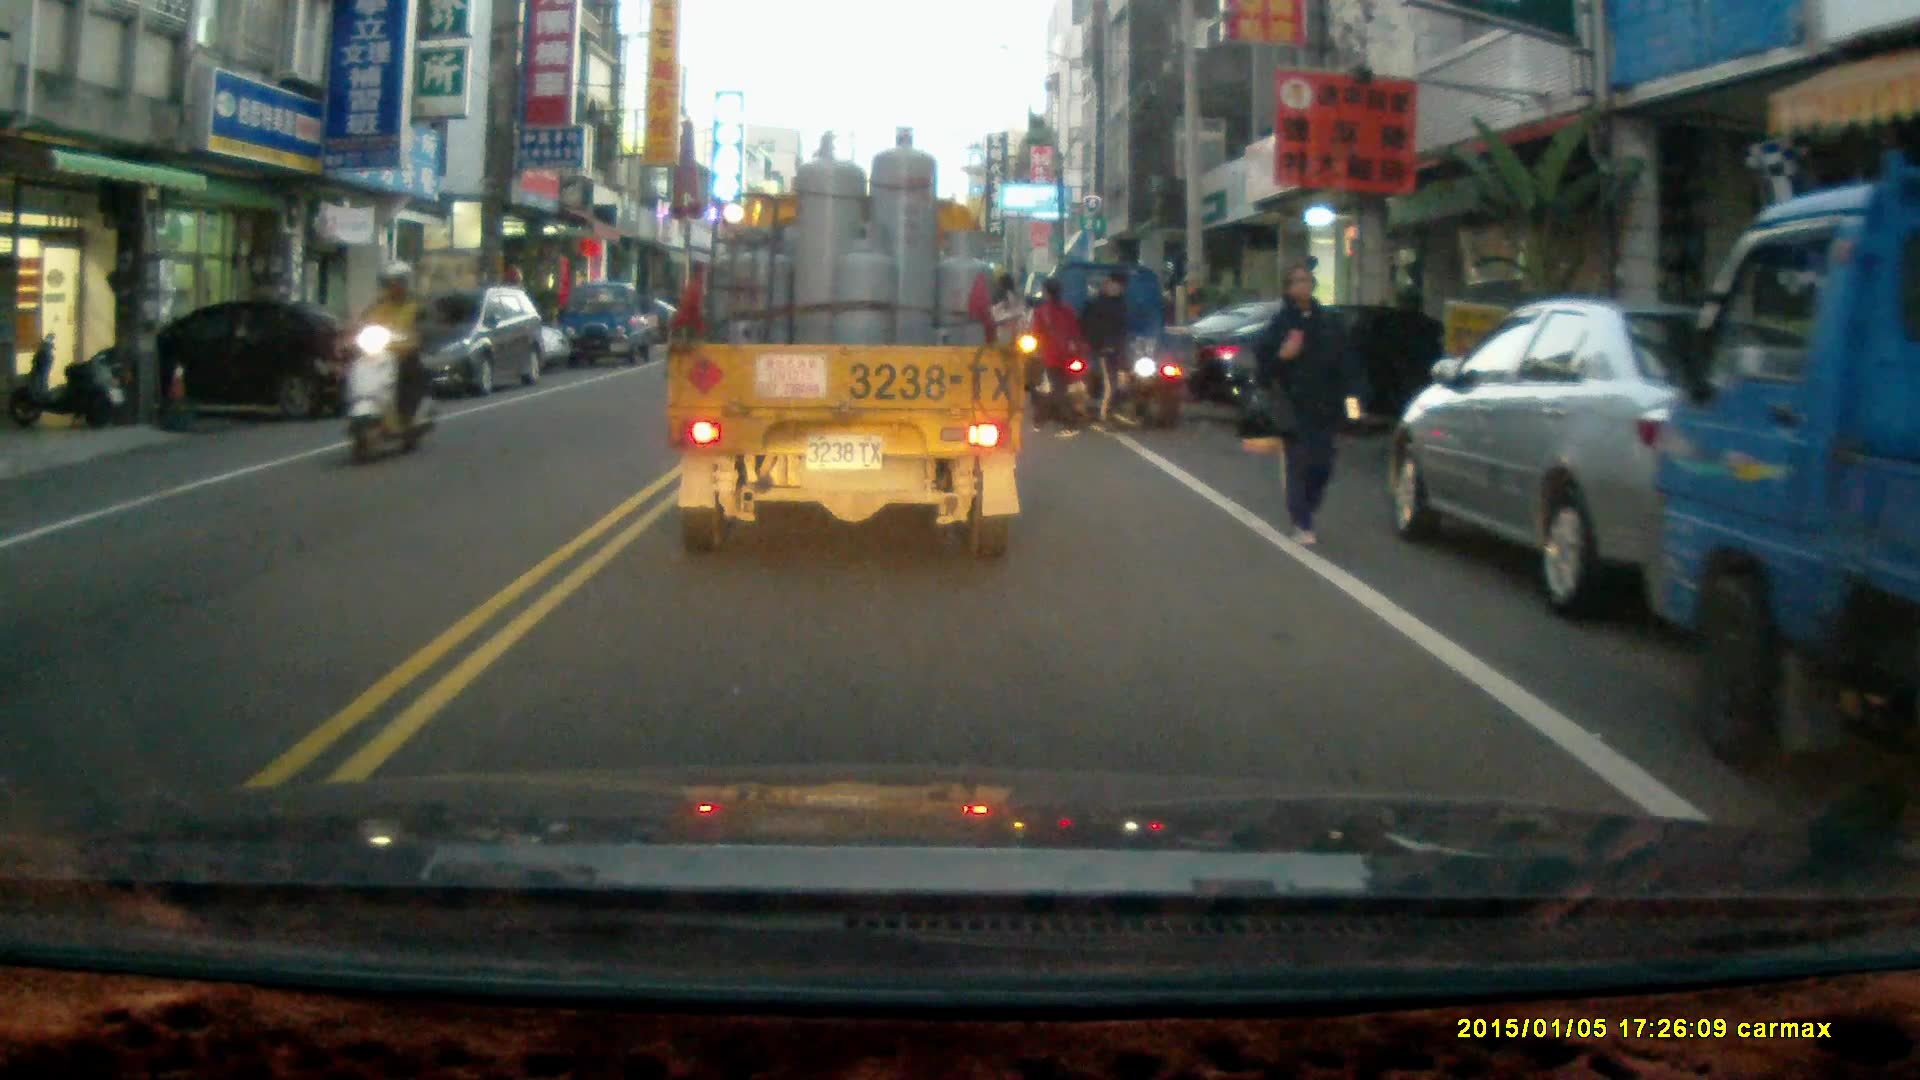pedestrian: (1253, 259, 1362, 545), (1078, 270, 1145, 432), (1024, 275, 1086, 436)
rider: (341, 257, 437, 467)
vehicle: (665, 125, 1029, 568), (1650, 192, 1920, 789), (1398, 298, 1828, 622), (1177, 297, 1498, 450), (66, 297, 393, 424), (1027, 261, 1201, 428), (380, 284, 547, 400), (562, 279, 661, 369)
